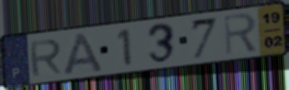1: (115, 27, 135, 67)
3: (145, 21, 179, 67)
7: (188, 16, 221, 61)
A: (62, 31, 105, 76)
R: (222, 11, 260, 58), (27, 38, 64, 79)
